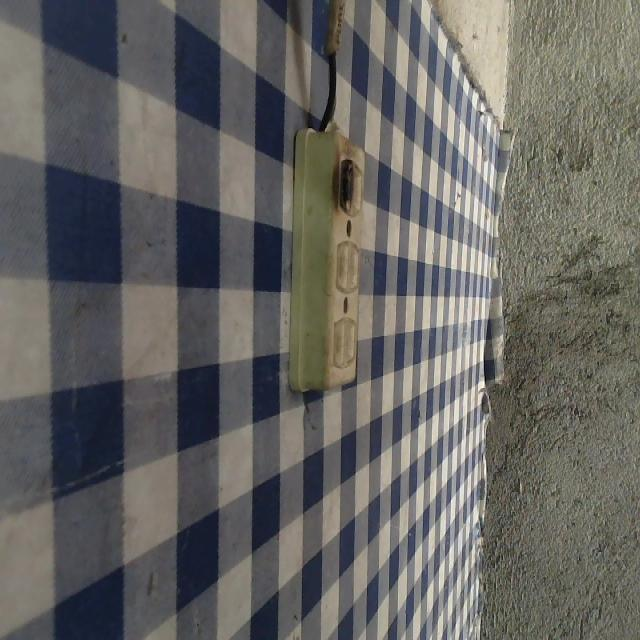-: (326, 155, 357, 221)
